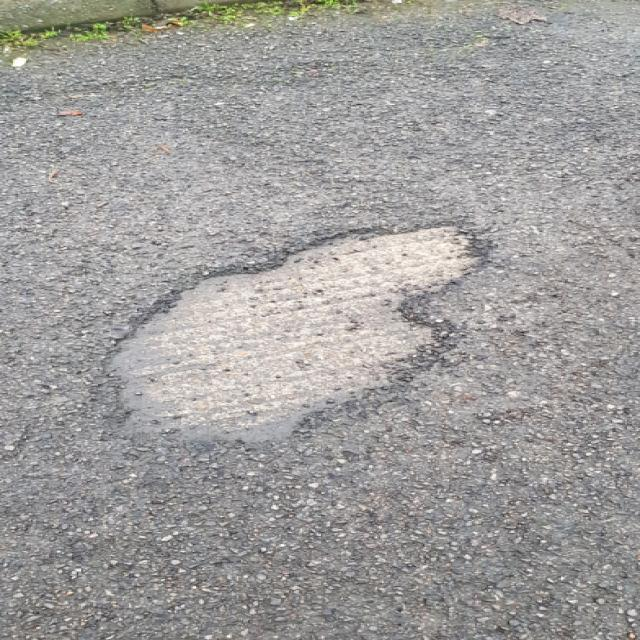pothole: (93, 217, 494, 450)
